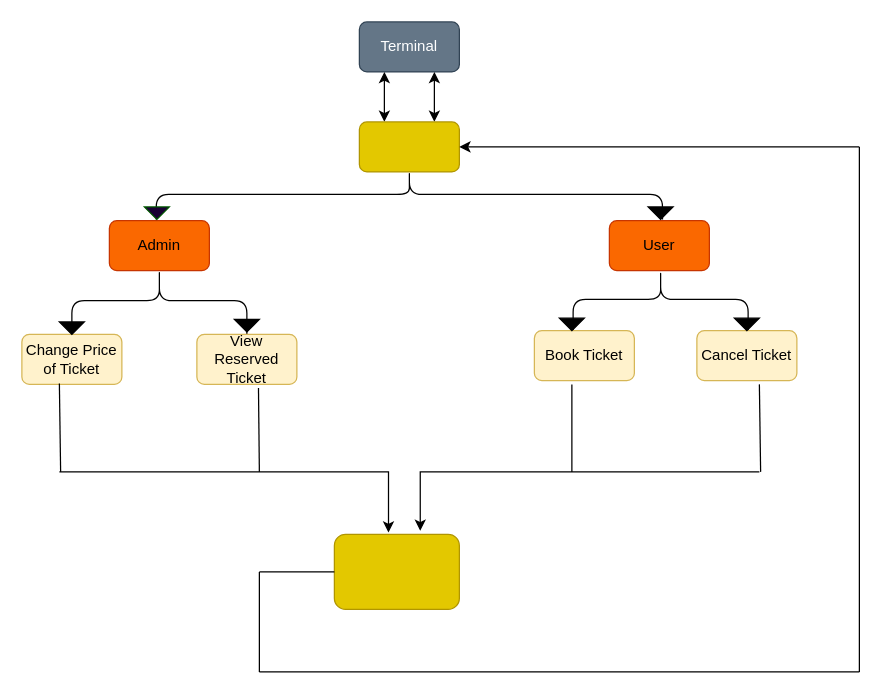
Image size: 891x695. Some labels were removed from this diagram. Here are the shapes that lost their labels. From the top down, the box of each, then its label:
(358, 121, 459, 172): Menu
(333, 533, 459, 609): Logout
